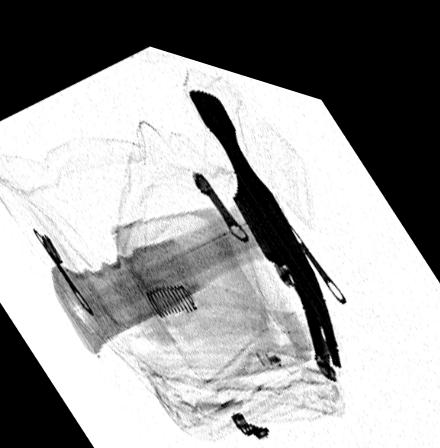Hammer: (48, 76, 342, 350)
